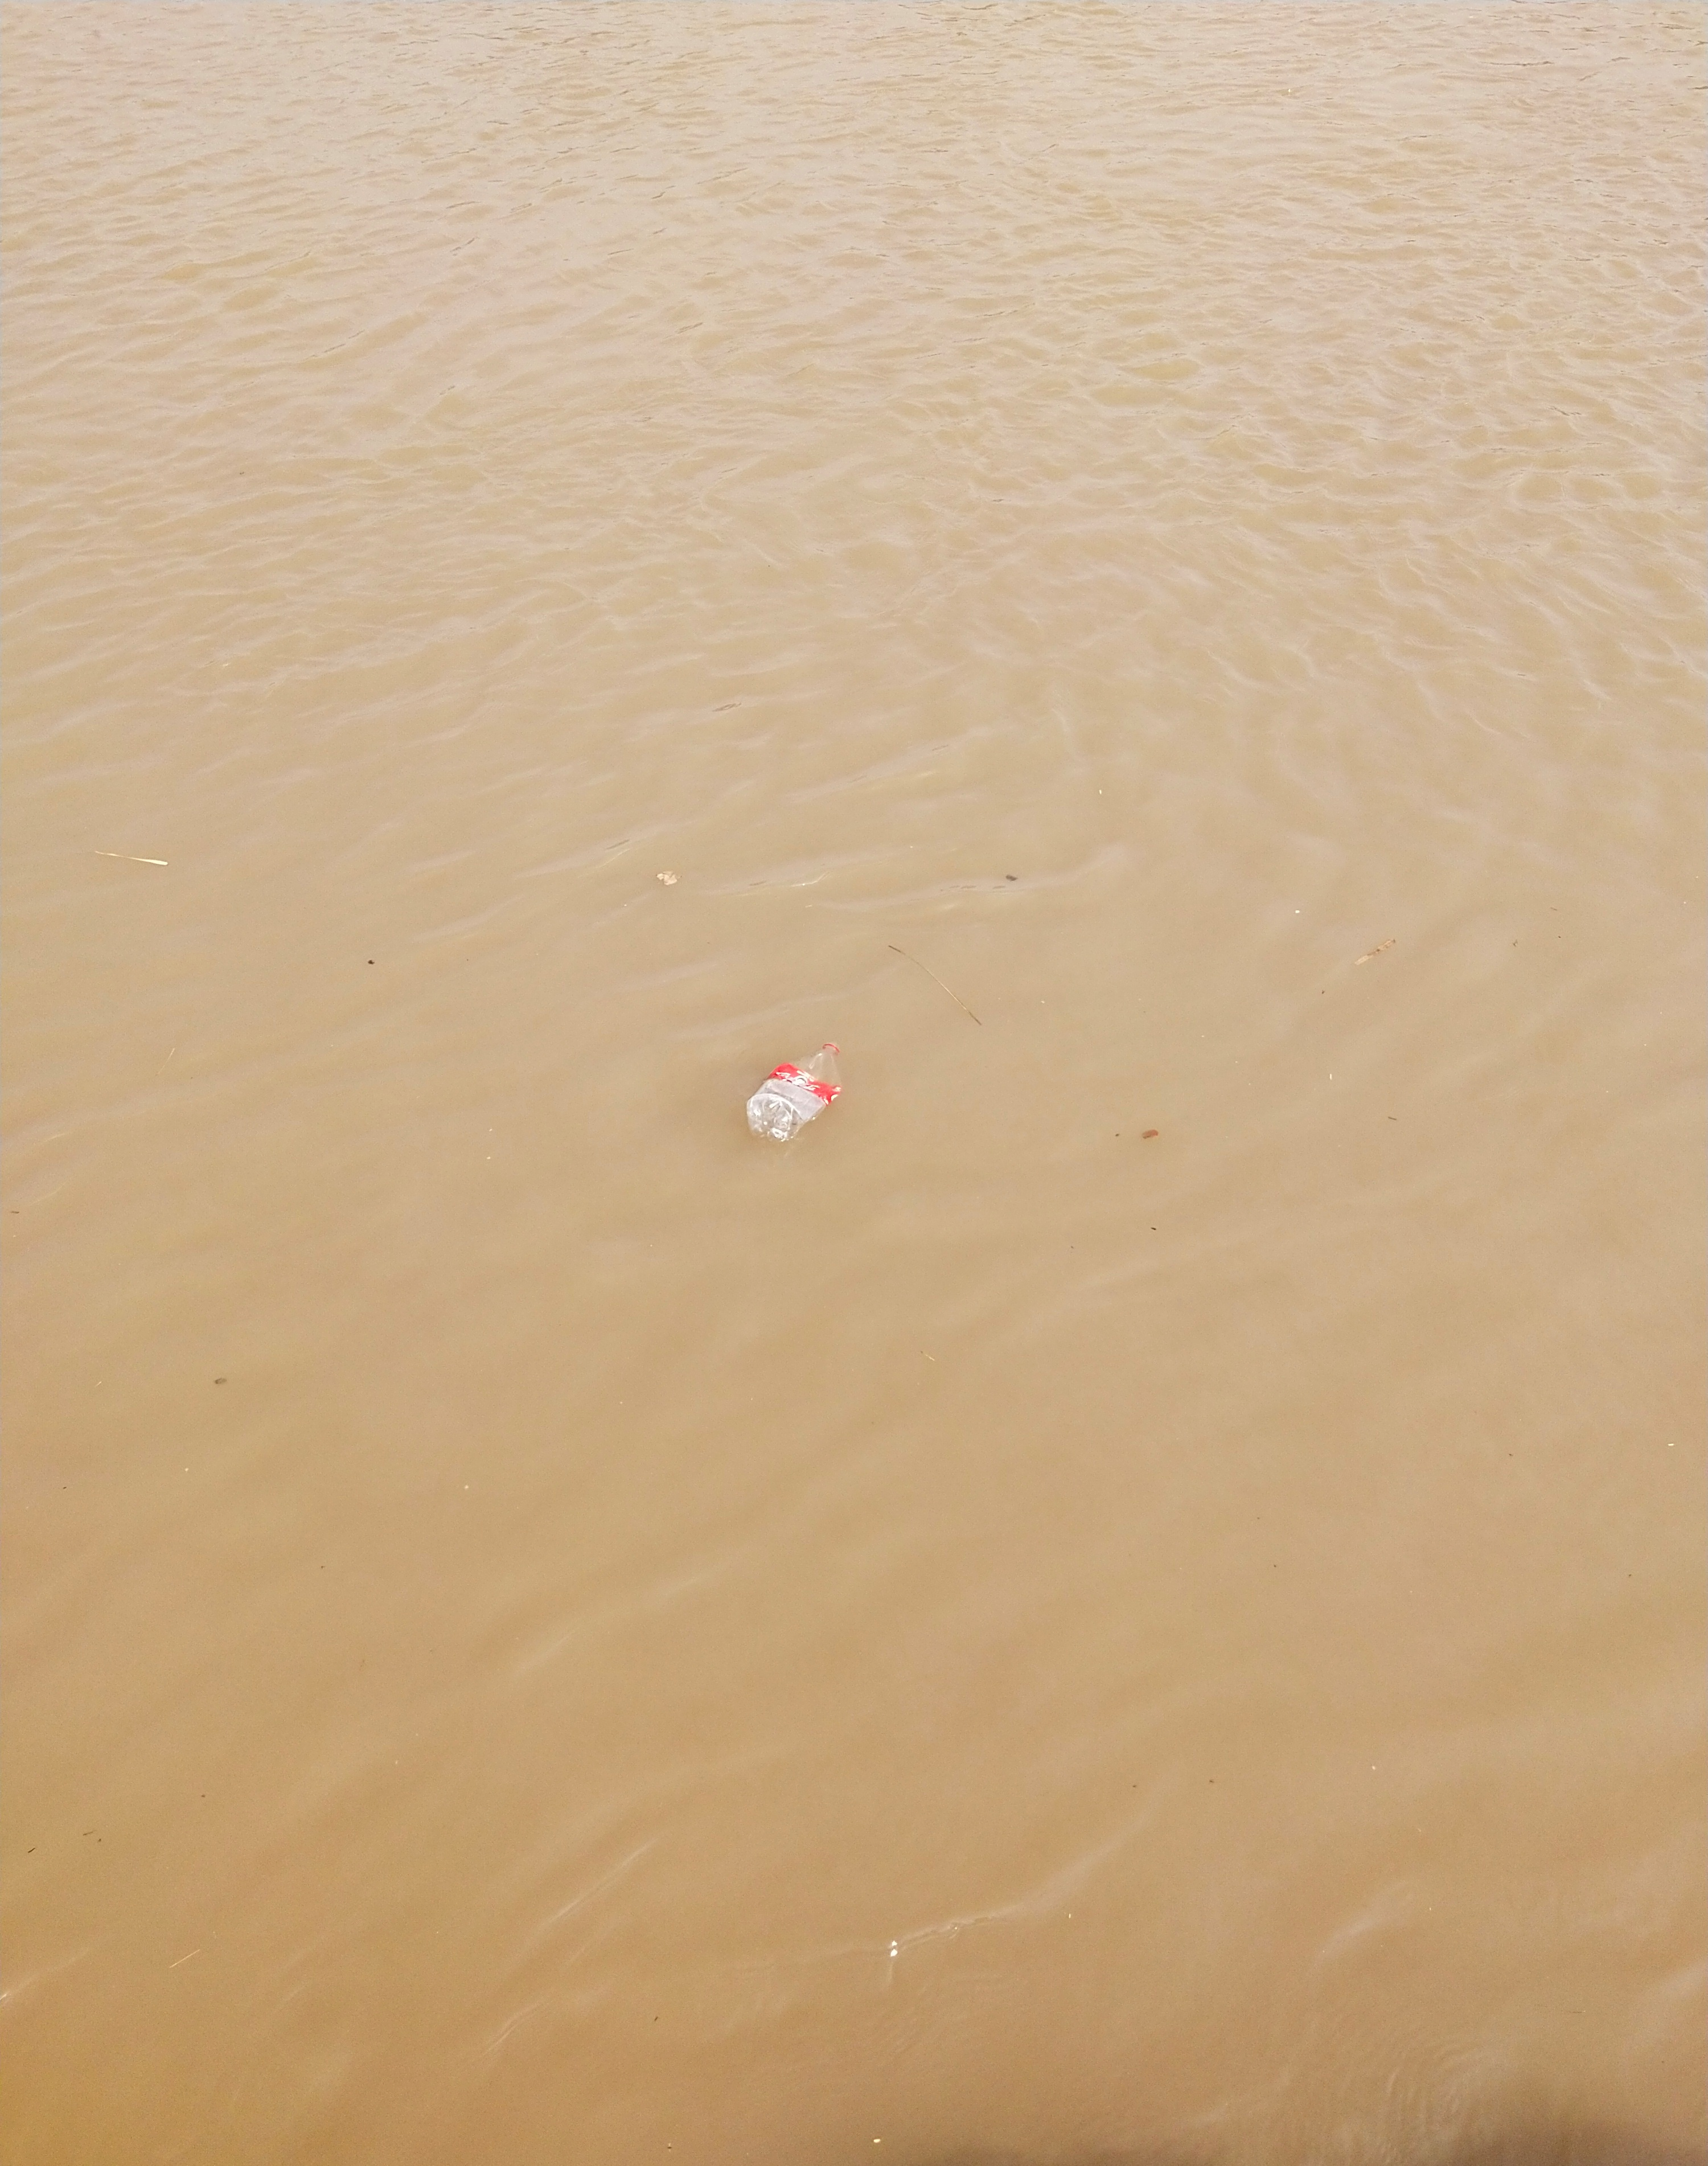Plastic Bottle: (745, 1041, 842, 1141)
